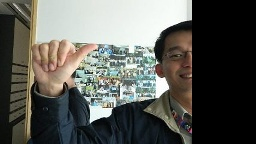Pugno: (21, 36, 103, 87)
